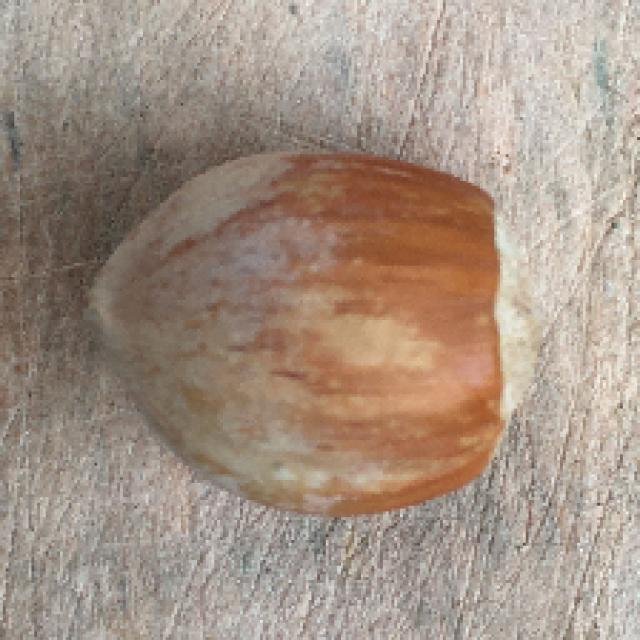hazelnut: (80, 153, 529, 530)
